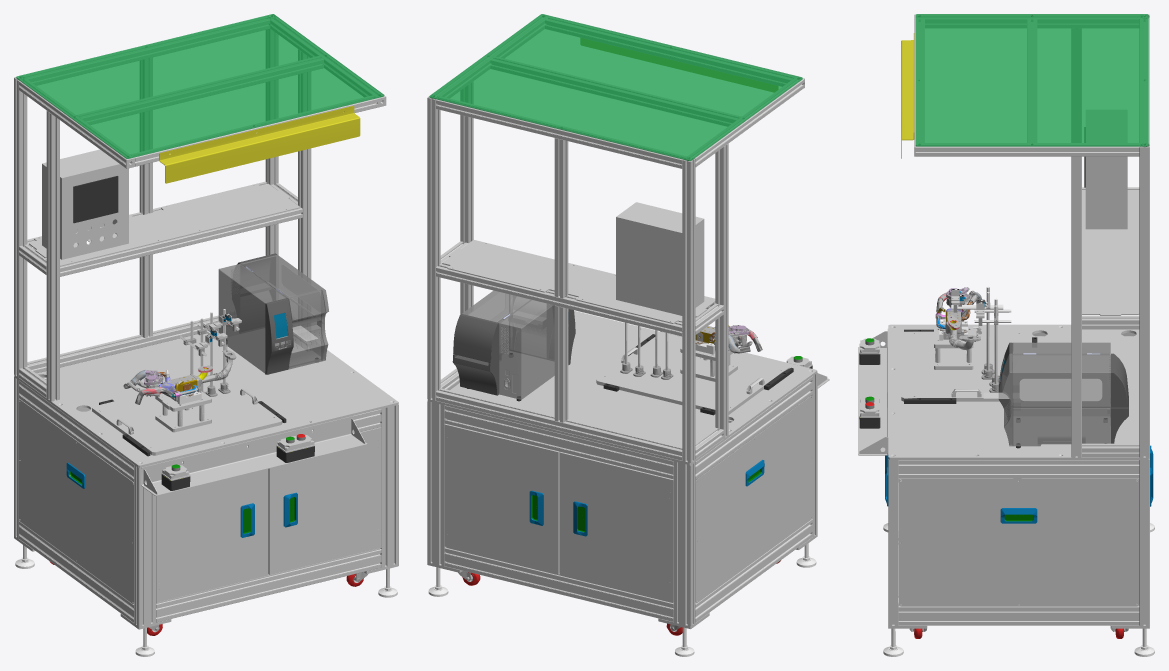
Rendered from station-05.glb.
3 renders of one model, left to right at view 1: azimuth 30°, elevation 25°; view 2: azimuth 150°, elevation 25°; view 3: azimuth 270°, elevation 25°, orthographic. The views are drawn at different scales.
Visible parts, largest first — view 1: part_000, part_005, part_007, part_004, part_002, part_003; view 2: part_000, part_005, part_007, part_004, part_003, part_002; view 3: part_000, part_005, part_007, part_002, part_004, part_003.
Boxes of the visible parts, x1=… form: part_000: x1=14, y1=14, x2=398, y2=629; part_005: x1=16, y1=14, x2=384, y2=158; part_007: x1=15, y1=176, x2=397, y2=656; part_004: x1=159, y1=106, x2=360, y2=183; part_002: x1=49, y1=345, x2=368, y2=635; part_003: x1=66, y1=462, x2=297, y2=537; part_000: x1=427, y1=14, x2=829, y2=629; part_005: x1=429, y1=14, x2=802, y2=160; part_007: x1=428, y1=290, x2=816, y2=656; part_004: x1=580, y1=38, x2=778, y2=91; part_003: x1=529, y1=460, x2=764, y2=536; part_002: x1=458, y1=317, x2=780, y2=635; part_000: x1=858, y1=14, x2=1149, y2=628; part_005: x1=915, y1=14, x2=1148, y2=146; part_007: x1=859, y1=127, x2=1154, y2=656; part_002: x1=865, y1=287, x2=1128, y2=638; part_004: x1=901, y1=33, x2=914, y2=158; part_003: x1=885, y1=445, x2=1153, y2=523.
Size of the model in its own units: 1.22 by 2.15 by 1.13.
